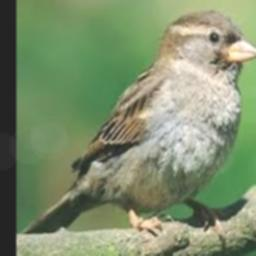Sparrow: (21, 10, 256, 241)
